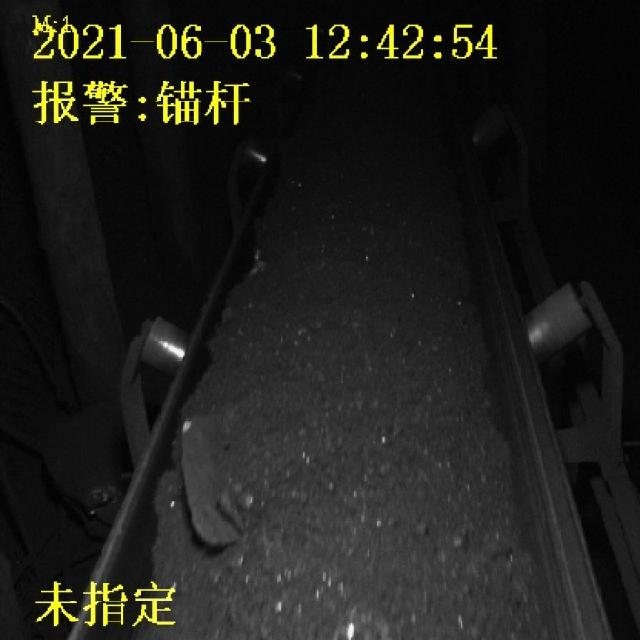large_sized_coal: (177, 418, 248, 554)
